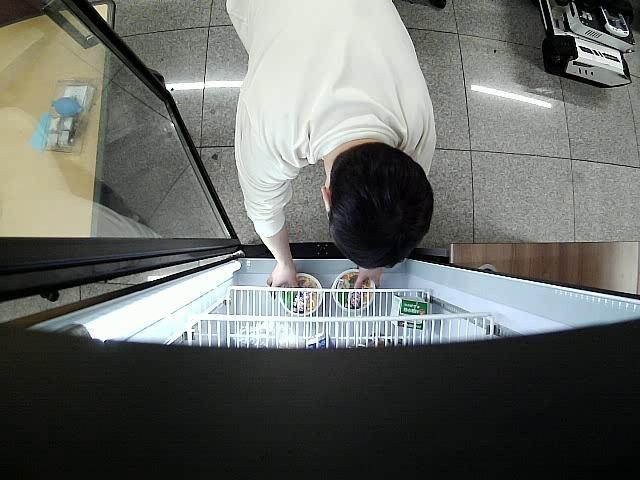09_yukGaeJang: (332, 270, 375, 313), (280, 274, 324, 314)
